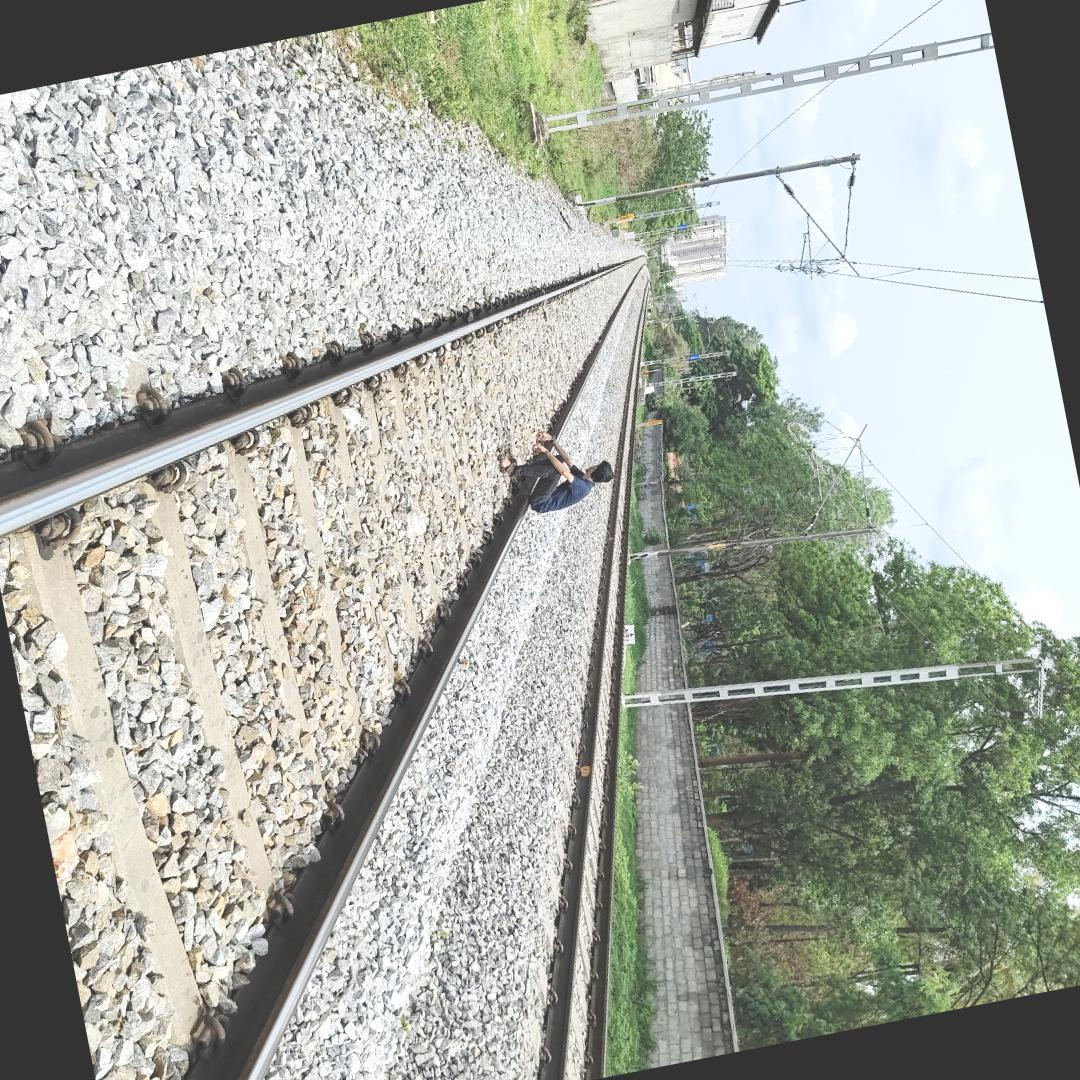sitting: (490, 429, 618, 520)
track: (0, 247, 653, 1080)
